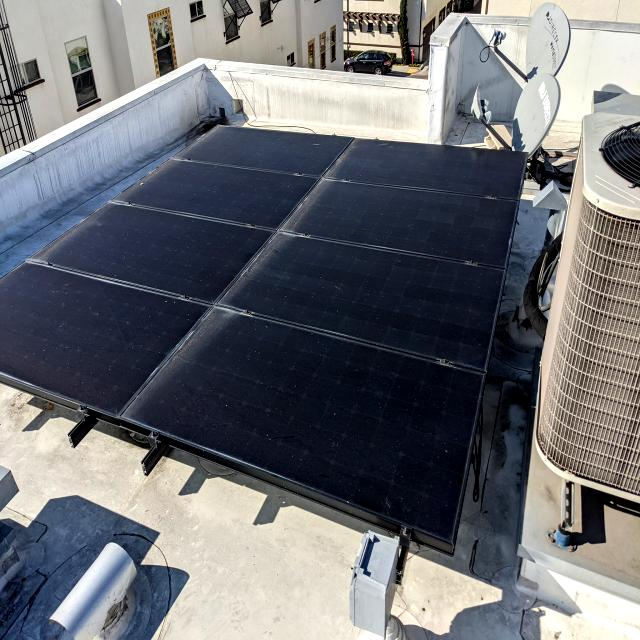dust: (223, 342, 422, 468), (292, 261, 469, 319), (0, 292, 157, 356), (94, 222, 223, 274), (338, 199, 490, 242), (158, 170, 271, 206)
